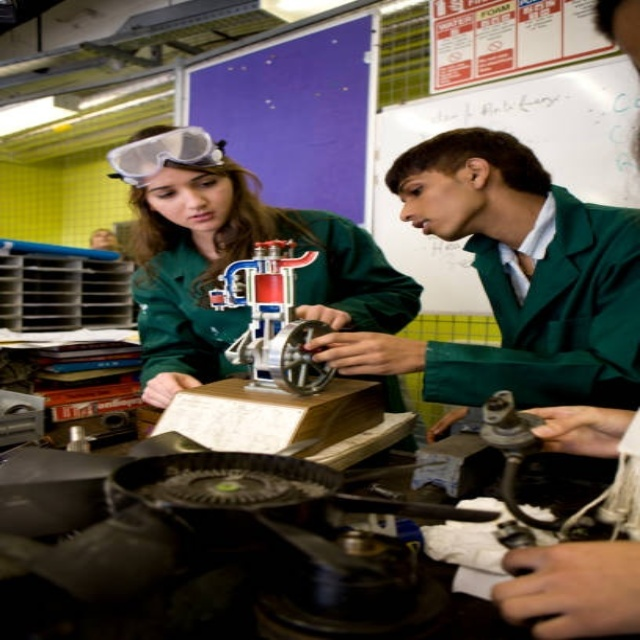Sin_gafas: (143, 173, 216, 204), (395, 173, 441, 204)
Sin_guantes: (489, 539, 638, 640), (515, 406, 633, 461), (305, 331, 425, 378), (139, 369, 205, 408), (427, 405, 472, 444)
Sin_mascara: (406, 215, 456, 239), (180, 206, 223, 229)
